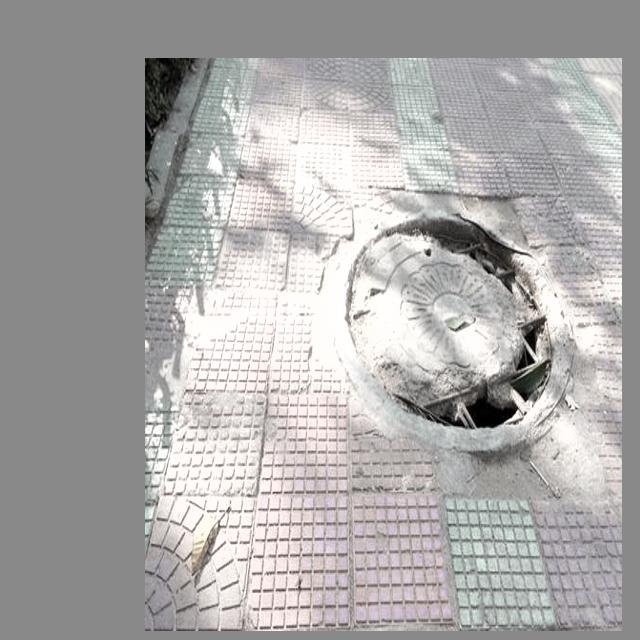broke: (325, 200, 573, 450)
